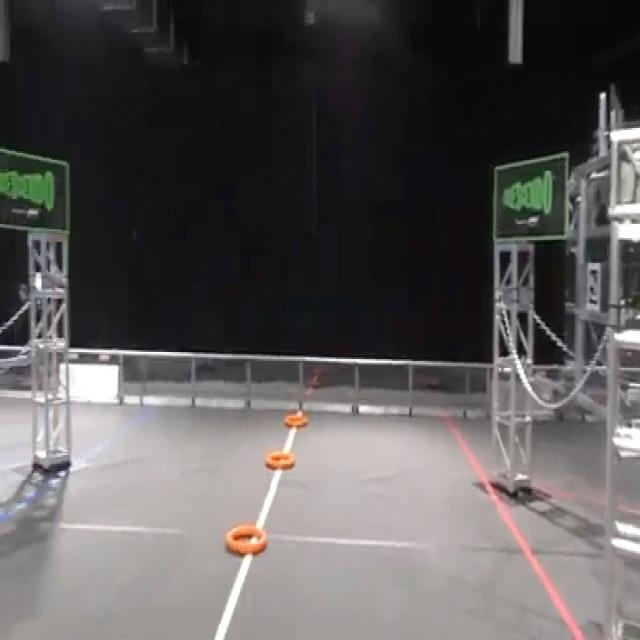note: (225, 524, 267, 555), (265, 451, 295, 469), (284, 414, 308, 429)
